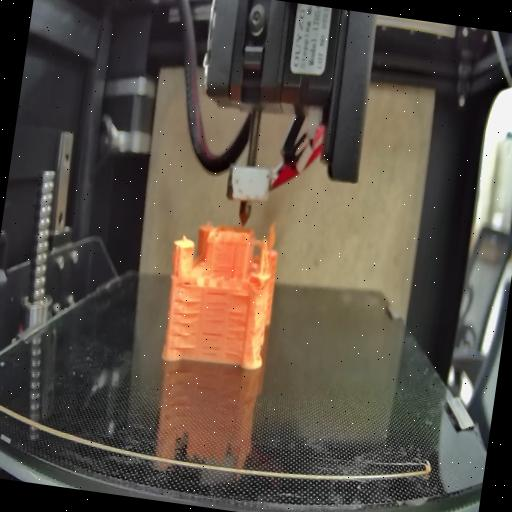cracks: (170, 296, 202, 350), (222, 308, 252, 360), (204, 290, 227, 324), (198, 328, 224, 358), (229, 287, 251, 300), (182, 278, 194, 288)
